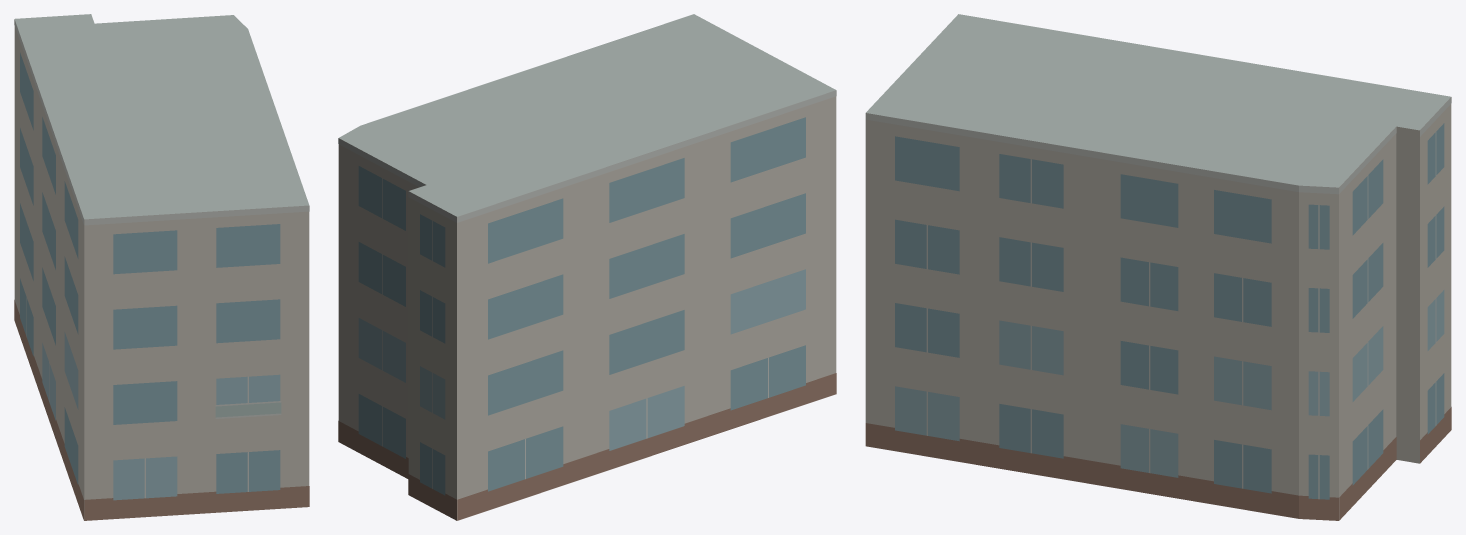
File: residential-0d8a7493-d9e0-41a3-ab71-1bef71238d4e.glb
3 renders of one model, left to right at view 1: azimuth 30°, elevation 25°; view 2: azimuth 150°, elevation 25°; view 3: azimuth 270°, elevation 25°, orthographic. The views are drawn at different scales.
Parts seen in each view (by area): view 1: residential-0d8a7493-d9e0-41a3-ab71-1bef71238d4e.tmp; view 2: residential-0d8a7493-d9e0-41a3-ab71-1bef71238d4e.tmp; view 3: residential-0d8a7493-d9e0-41a3-ab71-1bef71238d4e.tmp.
Part boxes in pixels (left/top/right/bottom): residential-0d8a7493-d9e0-41a3-ab71-1bef71238d4e.tmp: left=14, top=14, right=309, bottom=520; residential-0d8a7493-d9e0-41a3-ab71-1bef71238d4e.tmp: left=338, top=14, right=836, bottom=520; residential-0d8a7493-d9e0-41a3-ab71-1bef71238d4e.tmp: left=865, top=14, right=1451, bottom=520.
Size of the model in its own units: 13.64 by 12.2 by 19.45.
